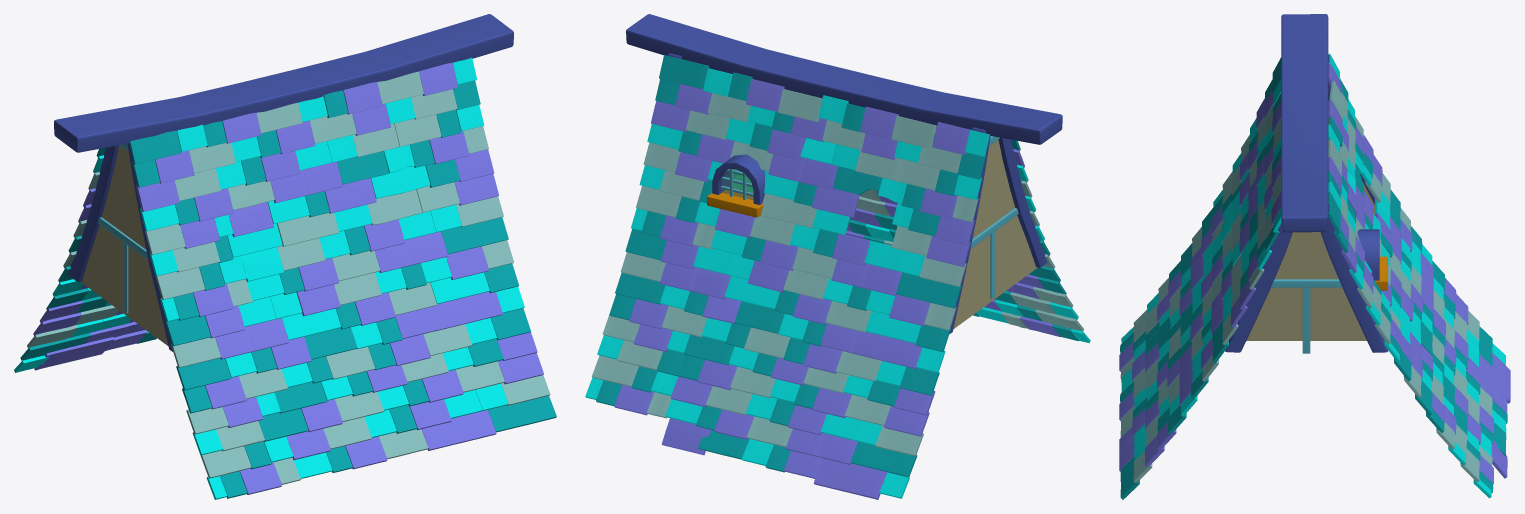
The model's file is SM_Floor3_01.fbx.
3 renders of one model, left to right at view 1: azimuth 30°, elevation 25°; view 2: azimuth 150°, elevation 25°; view 3: azimuth 270°, elevation 25°, orthographic. The views are drawn at different scales.
Visible parts, largest first — view 1: SM_roof_3Floor_02, SM_3Floor_roofBalk, SM_3Floor_Balks_02, SM_roof_3Floor_01; view 2: SM_roof_3Floor_01, SM_3Floor_roofBalk, SM_3Floor_Balks_02, SM_roof_3Floor_02, SM_3Floor_win; view 3: SM_roof_3Floor_01, SM_roof_3Floor_02, SM_3Floor_Balks_01, SM_3Floor_roofBalk, SM_3Floor_win.
Boxes of the visible parts, x1,y1,x2,y2 form: SM_roof_3Floor_02: (129,57,556,499); SM_3Floor_roofBalk: (54,14,513,152); SM_3Floor_Balks_02: (68,143,172,351); SM_roof_3Floor_01: (14,147,156,372); SM_roof_3Floor_01: (585,55,989,499); SM_3Floor_roofBalk: (626,14,1062,144); SM_3Floor_Balks_02: (949,127,1047,334); SM_roof_3Floor_02: (846,126,1090,343); SM_3Floor_win: (707,154,765,217); SM_roof_3Floor_01: (1328,53,1510,498); SM_roof_3Floor_02: (1119,57,1281,499); SM_3Floor_Balks_01: (1225,204,1388,353); SM_3Floor_roofBalk: (1281,14,1328,232); SM_3Floor_win: (1357,229,1387,290).
Size of the model in its own units: 9.07 by 6.71 by 7.35.
